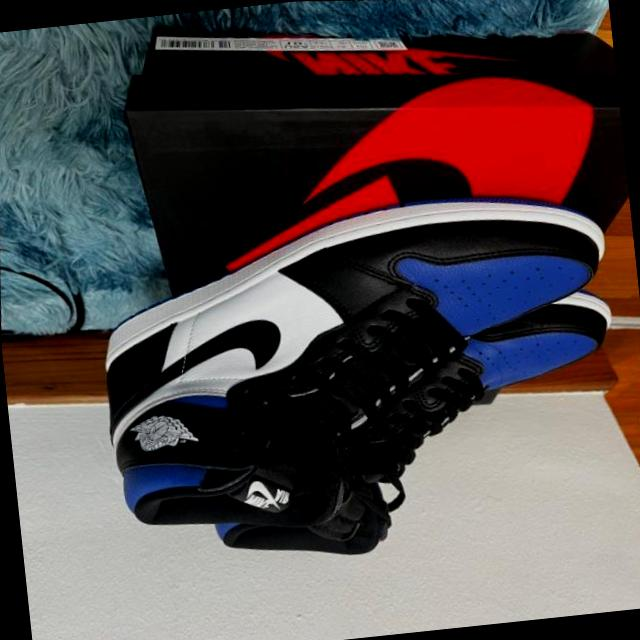nike_original_jordan: (69, 145, 640, 572), (188, 255, 640, 593)
